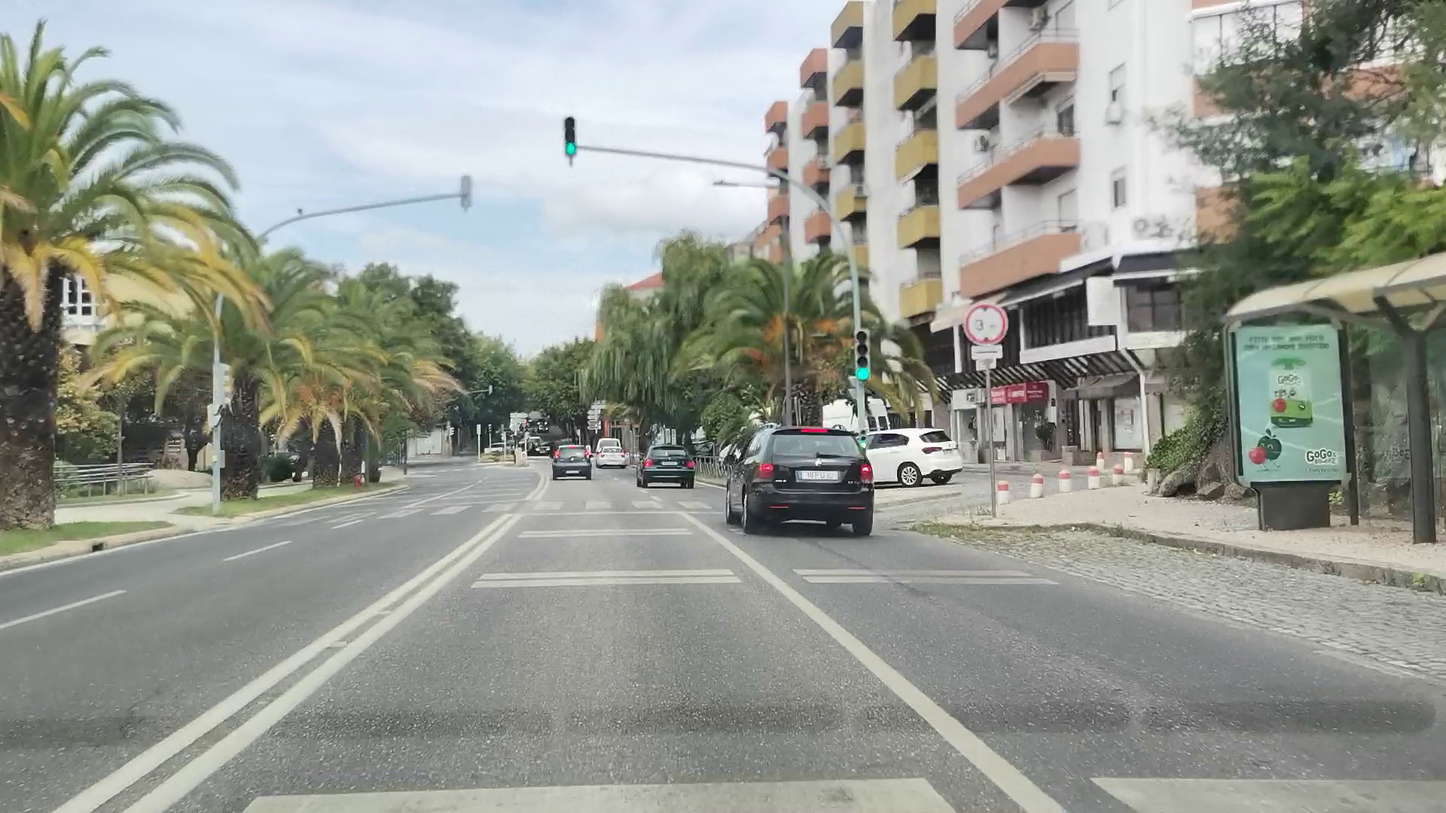Stairs: (244, 498, 720, 526)
